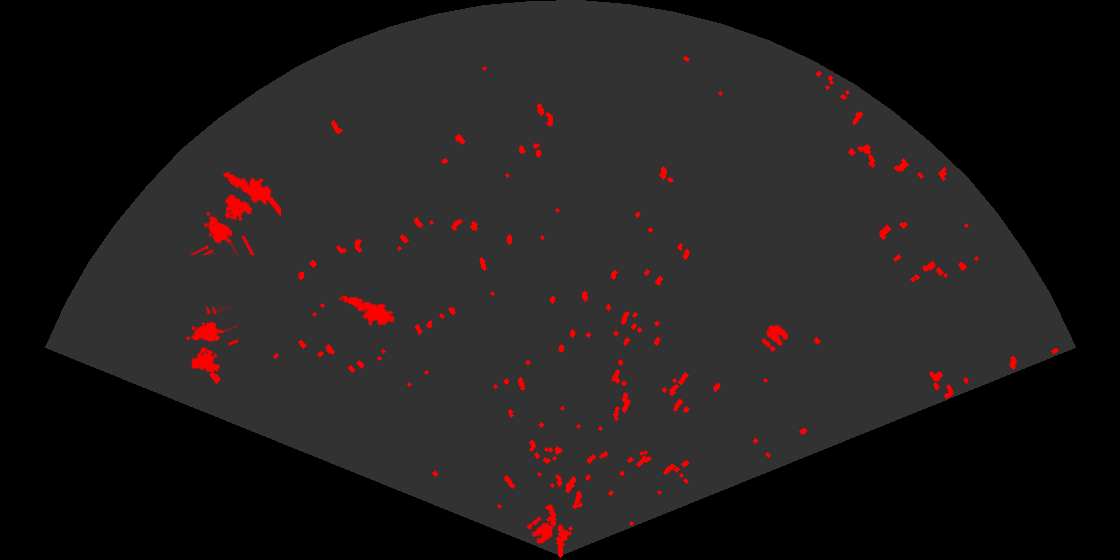ball: (525, 515, 555, 545), (760, 323, 790, 353)
cage: (188, 193, 256, 255), (184, 307, 238, 374)
frogman: (222, 170, 281, 216), (340, 294, 394, 328)
